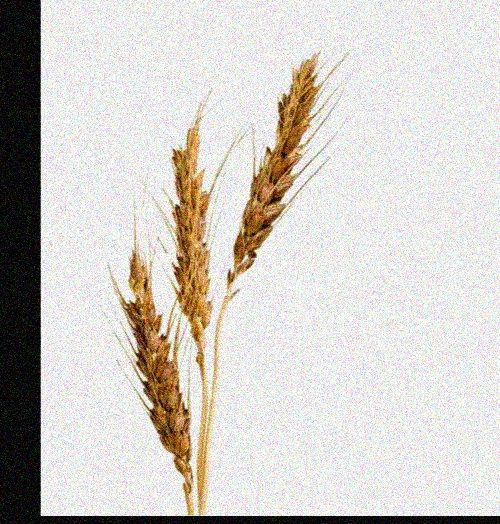wheat: (222, 32, 359, 325), (90, 236, 196, 482), (167, 105, 213, 371)
